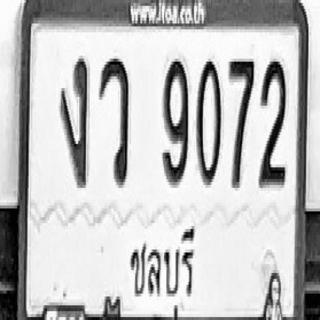A07: (59, 56, 88, 185)
A37: (98, 56, 129, 185)
N00: (196, 59, 221, 185)
N02: (259, 59, 286, 185)
N07: (229, 57, 254, 186)
N09: (162, 57, 188, 183)
P13: (125, 220, 197, 320)
